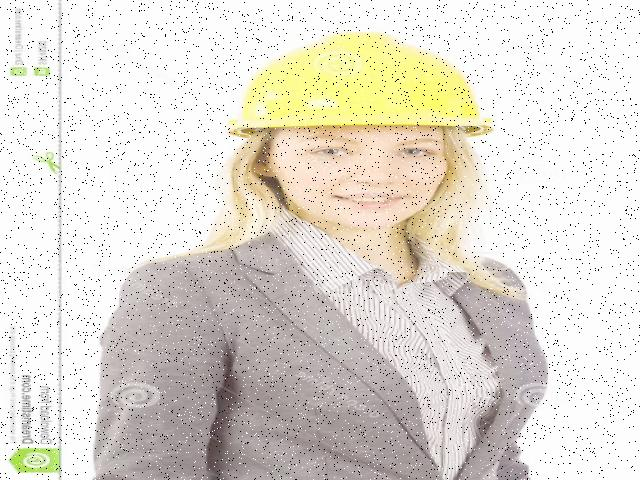Helmet: (219, 26, 504, 151)
